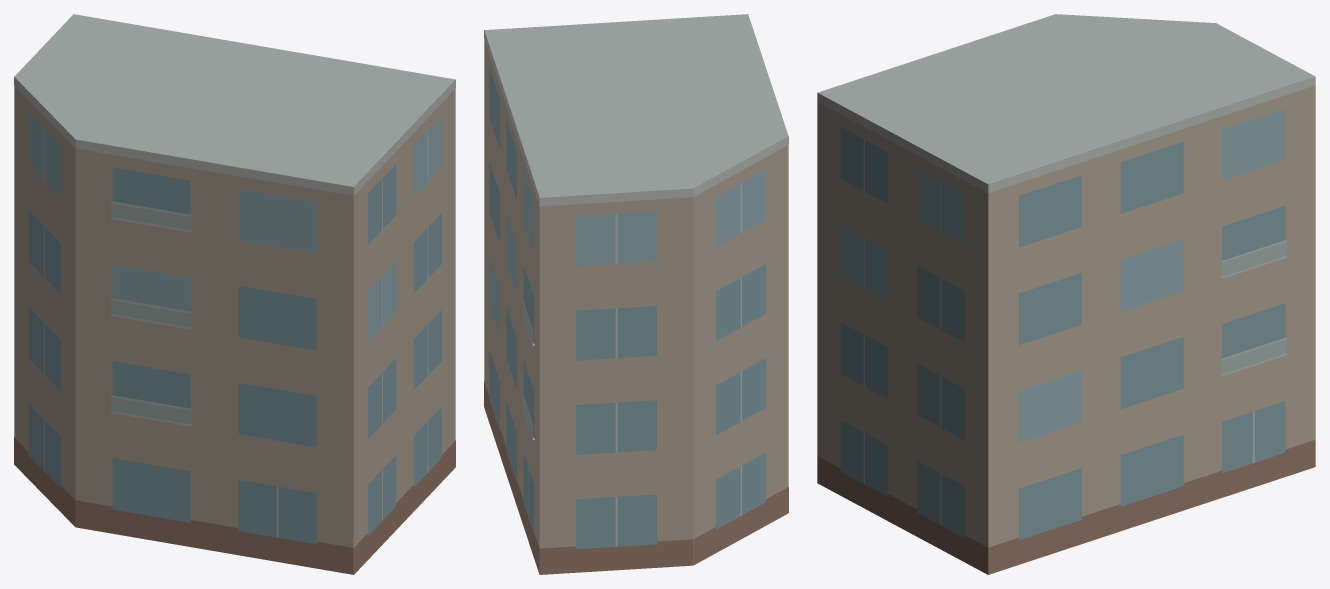
The model's file is survey-upis-32942980.glb.
3 views of the same model, side by side, from view 1: azimuth 30°, elevation 25°; view 2: azimuth 150°, elevation 25°; view 3: azimuth 270°, elevation 25° (orthographic). The views are drawn at different scales.
Visible parts, largest first — view 1: survey-upis-32942980.tmp; view 2: survey-upis-32942980.tmp; view 3: survey-upis-32942980.tmp.
Boxes of the visible parts, x1,y1,x2,y2 form: survey-upis-32942980.tmp: (14,14,455,574); survey-upis-32942980.tmp: (484,14,788,574); survey-upis-32942980.tmp: (817,14,1315,574).
Bounding box in the file's own units: 9.92 × 10.6 × 12.26.
